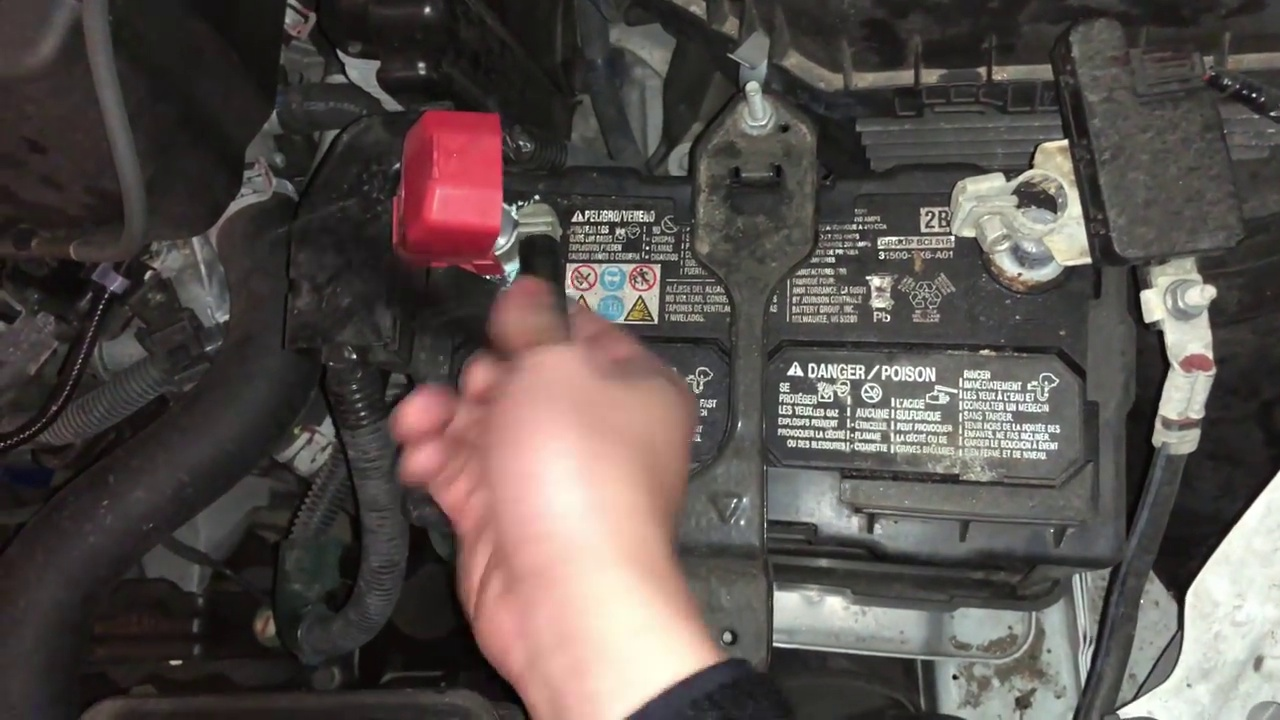battery: (393, 120, 1126, 557)
neg_disconnected: (925, 134, 1092, 289)
pos_touched: (375, 112, 645, 479)
